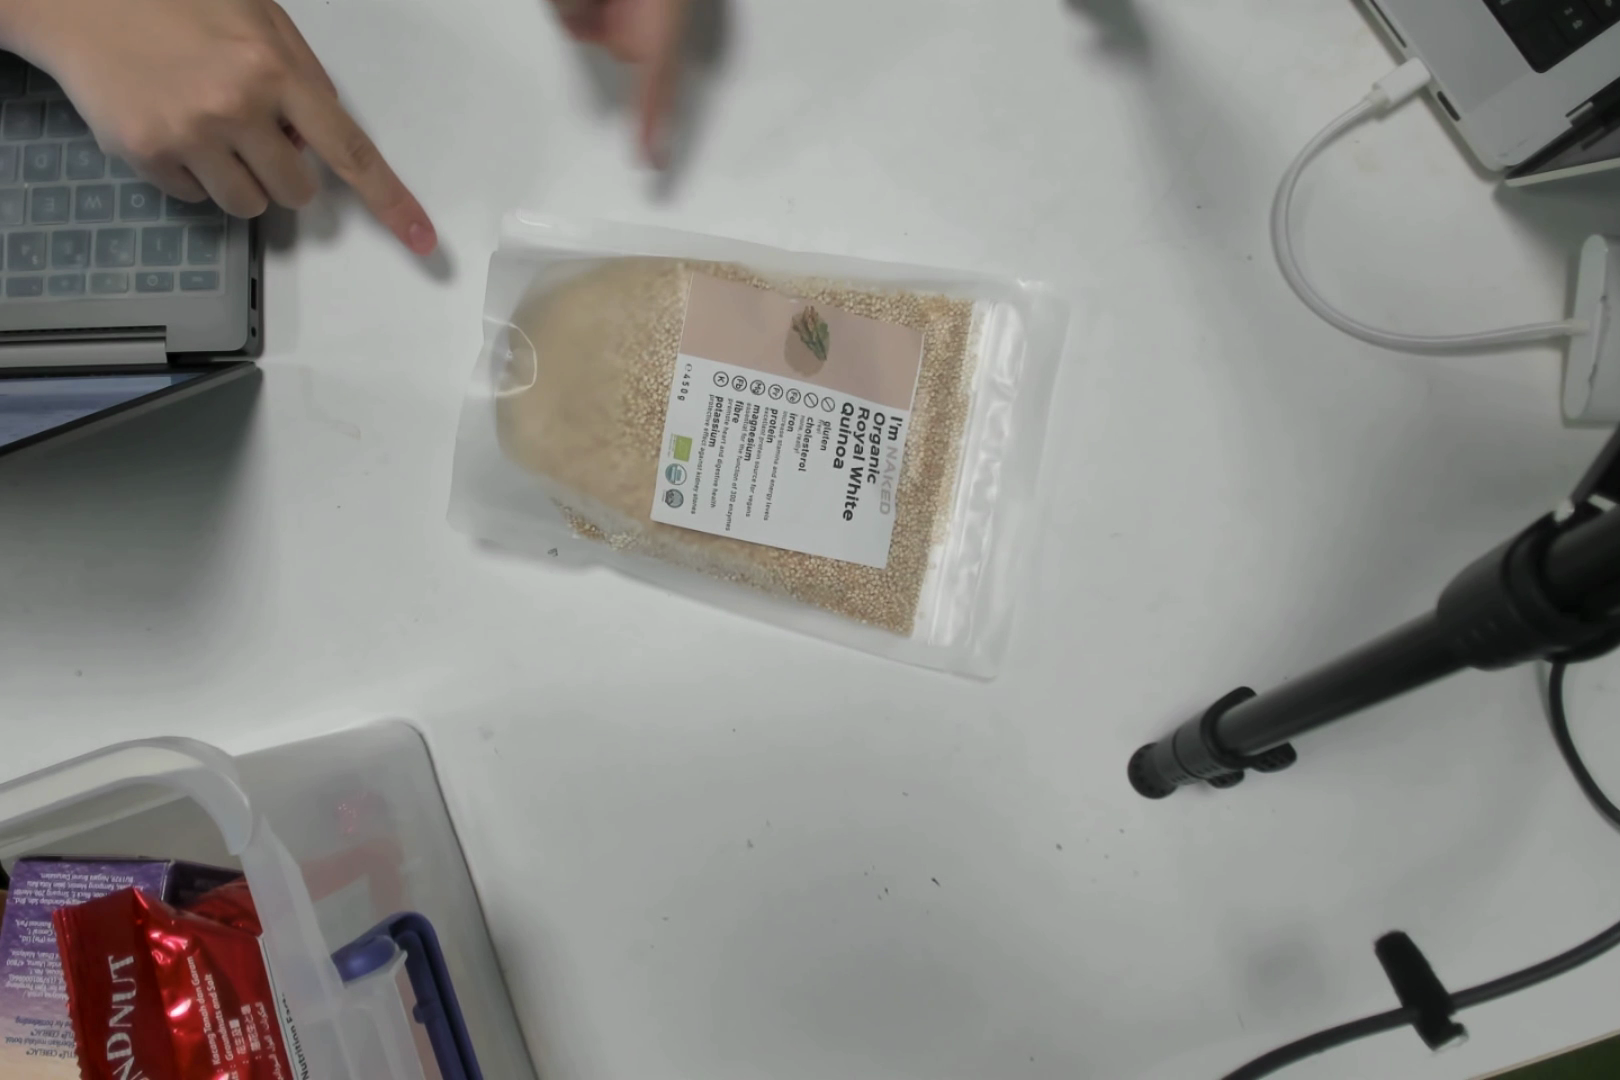Rice(brown-others)_400-499g_Halal_NonHealthy: (513, 231, 1025, 647)
